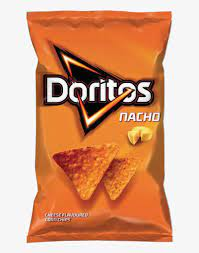Doritos: (20, 5, 177, 249)
